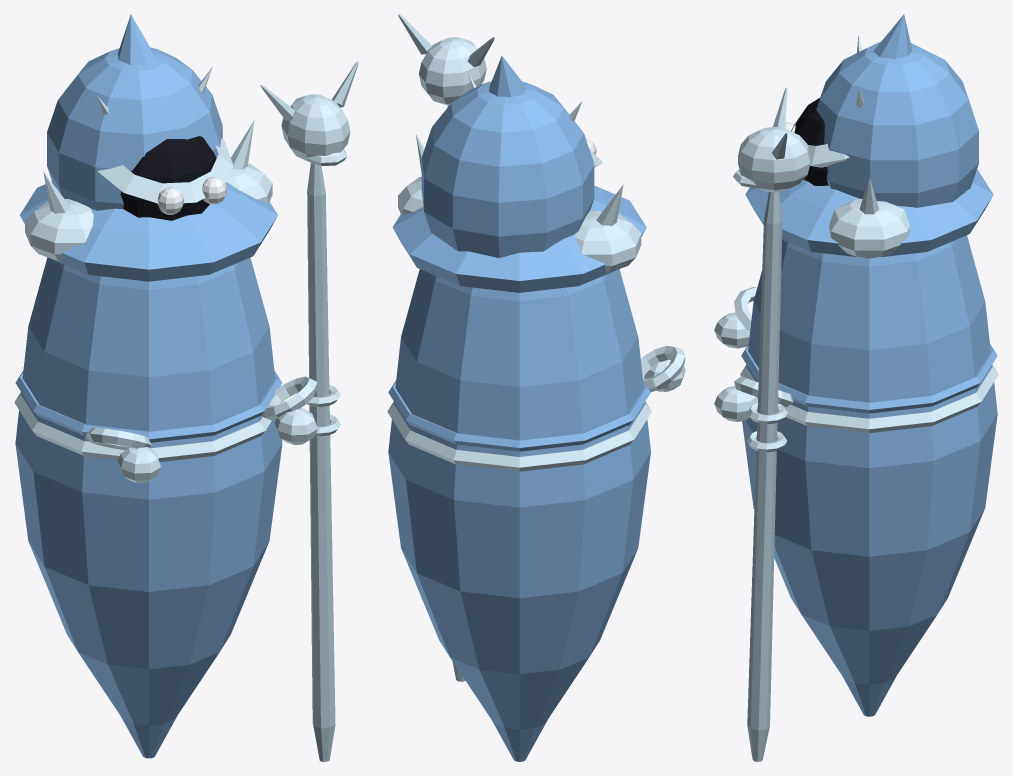
Rendered from frost_lich_body.obj.
3 renders of one model, left to right at view 1: azimuth 30°, elevation 25°; view 2: azimuth 150°, elevation 25°; view 3: azimuth 270°, elevation 25°, orthographic. The views are drawn at different scales.
Parts seen in each view (by area): view 1: robe_outer, hood, mantle, staff_shaft, face_void, belt, staff_skull, belt_edge, pauldron_L, hood_brim, cuff_R, hand_L (+5 smaller); view 2: robe_outer, hood, mantle, belt, belt_edge, staff_skull, pauldron_L, cuff_L, hood_peak, pauldron_R; view 3: robe_outer, hood, staff_shaft, mantle, pauldron_R, staff_skull, belt, belt_edge, face_void, hand_R, hood_peak, hand_L (+5 smaller).
Part boxes in pixels (<box>): robe_outer: <box>15,257,282,758</box>; hood: <box>47,47,222,210</box>; mantle: <box>20,181,277,281</box>; staff_shaft: <box>307,163,335,761</box>; face_void: <box>120,136,216,220</box>; belt: <box>14,392,283,462</box>; staff_skull: <box>281,94,350,163</box>; belt_edge: <box>15,370,282,442</box>; pauldron_L: <box>25,199,93,261</box>; hood_brim: <box>98,138,233,203</box>; cuff_R: <box>261,376,317,420</box>; hand_L: <box>118,446,160,483</box>; robe_outer: <box>388,269,650,761</box>; hood: <box>421,81,594,257</box>; mantle: <box>392,185,646,292</box>; belt: <box>387,401,651,471</box>; belt_edge: <box>388,380,650,451</box>; staff_skull: <box>419,37,486,105</box>; pauldron_L: <box>574,211,641,272</box>; cuff_L: <box>640,345,685,391</box>; hood_peak: <box>489,56,526,97</box>; pauldron_R: <box>398,176,423,215</box>; robe_outer: <box>742,235,997,716</box>; hood: <box>816,42,978,207</box>; staff_shaft: <box>747,192,782,761</box>; mantle: <box>745,169,993,258</box>; pauldron_R: <box>829,198,909,257</box>; staff_skull: <box>738,126,810,192</box>; belt: <box>740,364,998,432</box>; belt_edge: <box>741,344,997,413</box>; face_void: <box>794,98,828,185</box>; hand_R: <box>714,386,757,421</box>; hood_peak: <box>873,14,912,59</box>; hand_L: <box>714,312,750,348</box>.
Bounding box in the file's own units: 1.45 × 3.54 × 1.3.
